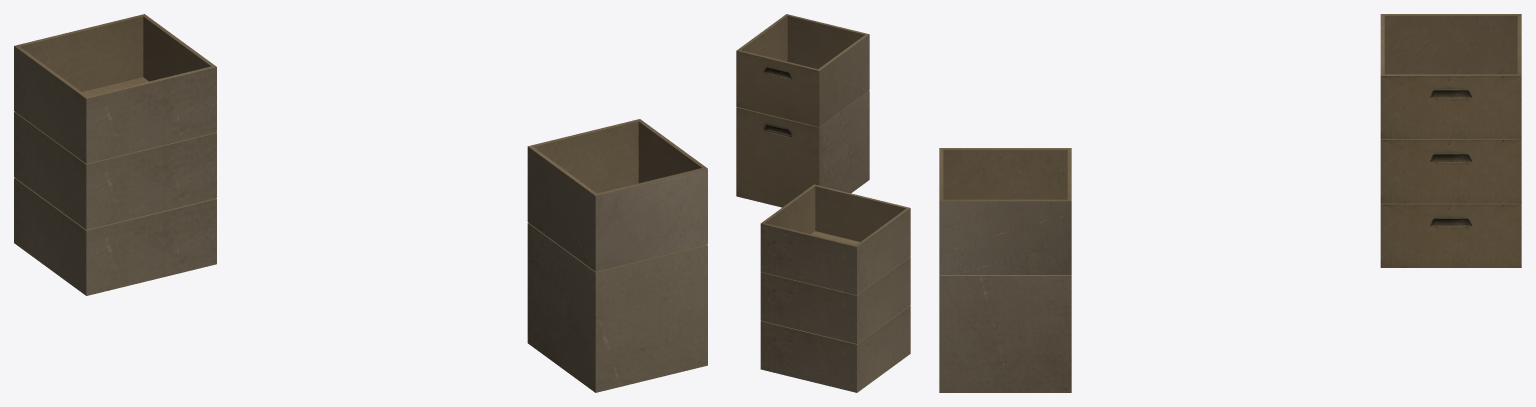
The picture shows the model from 3 angles, left to right: view 1: azimuth 30°, elevation 25°; view 2: azimuth 150°, elevation 25°; view 3: azimuth 270°, elevation 25°; orthographic projection. The views are drawn at different scales.
Parts seen in each view (by area): view 1: 抽屉-3, 抽屉-2, 抽屉-1, 抽屉-5, 抽屉-4; view 2: 抽屉-3, 抽屉-1, 抽屉-2, 抽屉-5, 抽屉-4; view 3: 抽屉-3, 抽屉-1, 抽屉-2, 抽屉-4, 抽屉-5.
Boxes of the visible parts, left/top/right/bottom form: 抽屉-3: left=14, top=14, right=216, bottom=163; 抽屉-2: left=527, top=223, right=707, bottom=392; 抽屉-1: left=527, top=119, right=707, bottom=271; 抽屉-5: left=14, top=177, right=216, bottom=295; 抽屉-4: left=14, top=111, right=216, bottom=229; 抽屉-3: left=760, top=184, right=910, bottom=295; 抽屉-1: left=736, top=14, right=869, bottom=126; 抽屉-2: left=736, top=91, right=869, bottom=207; 抽屉-5: left=760, top=305, right=910, bottom=392; 抽屉-4: left=760, top=256, right=910, bottom=343; 抽屉-3: left=1380, top=14, right=1521, bottom=139; 抽屉-1: left=939, top=148, right=1071, bottom=274; 抽屉-2: left=939, top=275, right=1071, bottom=392; 抽屉-4: left=1380, top=139, right=1521, bottom=203; 抽屉-5: left=1380, top=203, right=1521, bottom=267.
Size of the model in its own units: 221 by 105 by 290.
1 material, 1 textured.
